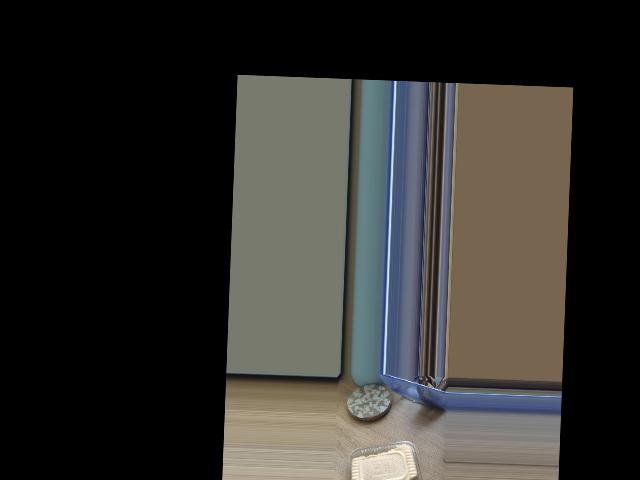cheese: (335, 434, 418, 480)
